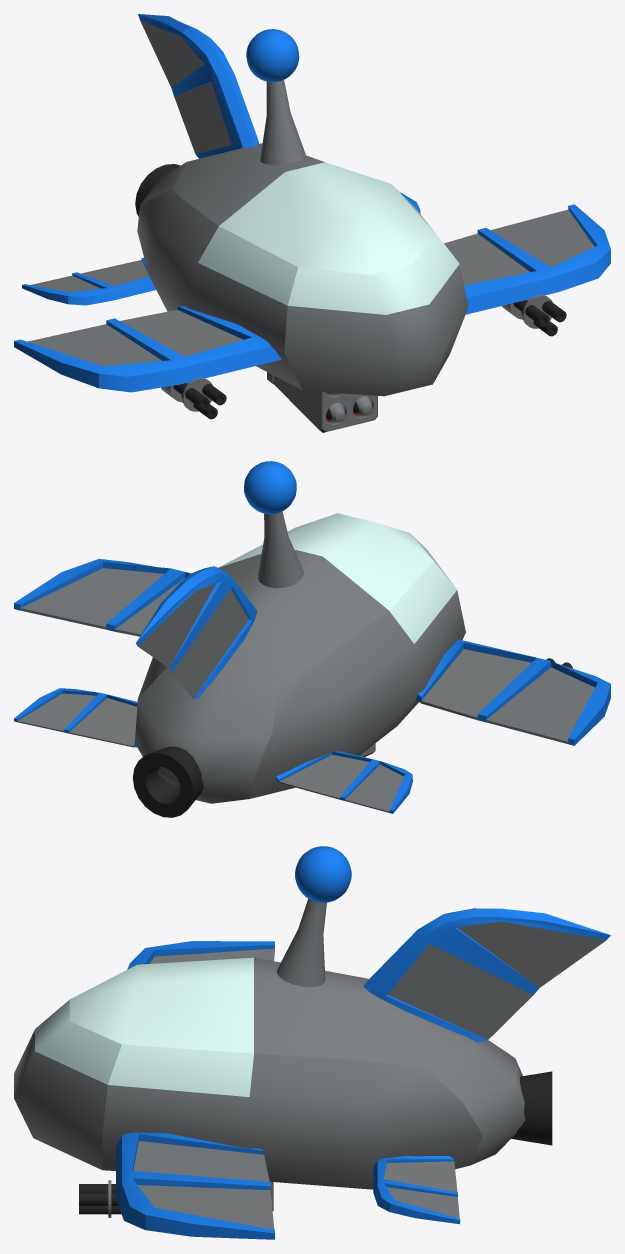
File: zikki_2D_2.fbx
3 renders of one model, top to bottom at view 1: azimuth 30°, elevation 25°; view 2: azimuth 150°, elevation 25°; view 3: azimuth 270°, elevation 25°, orthographic. The views are drawn at different scales.
Visible parts, largest first — view 1: polySurface11; view 2: polySurface11; view 3: polySurface11.
Boxes of the visible parts, x1,y1,x2,y2 form: polySurface11: (14,14,610,432); polySurface11: (14,461,610,817); polySurface11: (14,846,610,1239).
Size of the model in its own units: 417 by 241 by 361.
